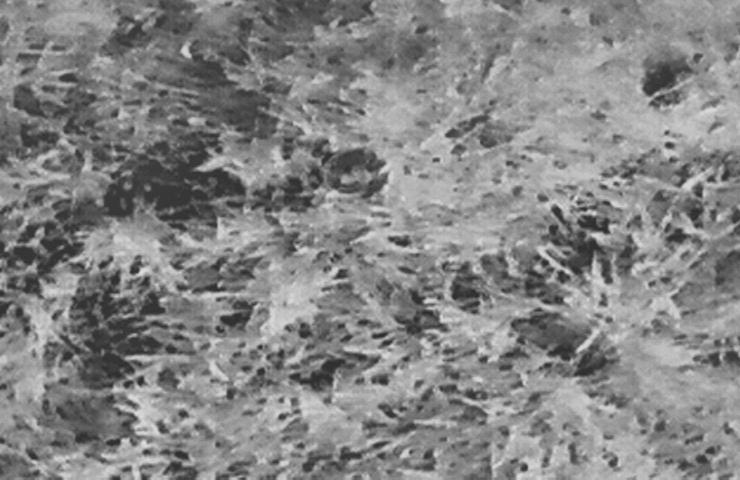landmines: (316, 140, 393, 208)
